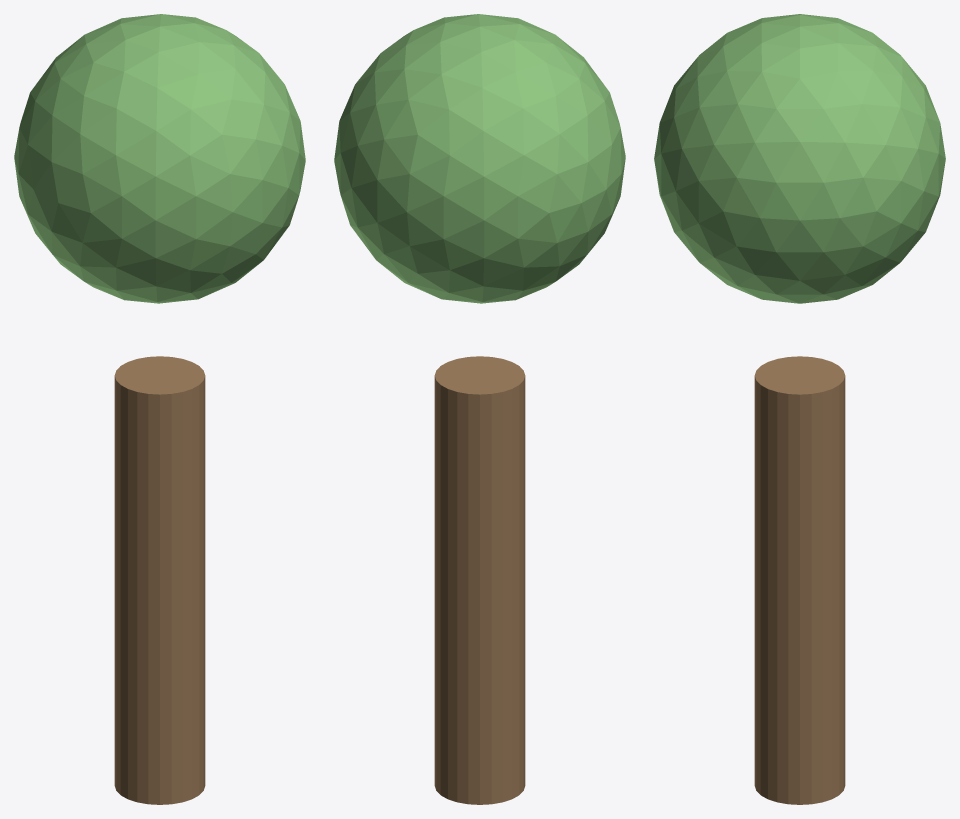
File: tree_broadleaf.glb
3 renders of one model, left to right at view 1: azimuth 30°, elevation 25°; view 2: azimuth 150°, elevation 25°; view 3: azimuth 270°, elevation 25°, orthographic.
Parts seen in each view (by area): view 1: crown, trunk; view 2: crown, trunk; view 3: crown, trunk.
Boxes of the visible parts, bbox=[...] form: crown: bbox=[14, 14, 305, 303]; trunk: bbox=[114, 356, 205, 804]; crown: bbox=[334, 14, 625, 303]; trunk: bbox=[434, 356, 525, 804]; crown: bbox=[654, 14, 945, 303]; trunk: bbox=[754, 356, 845, 804].
Size of the model in its own units: 1.16 by 3.33 by 1.16.
